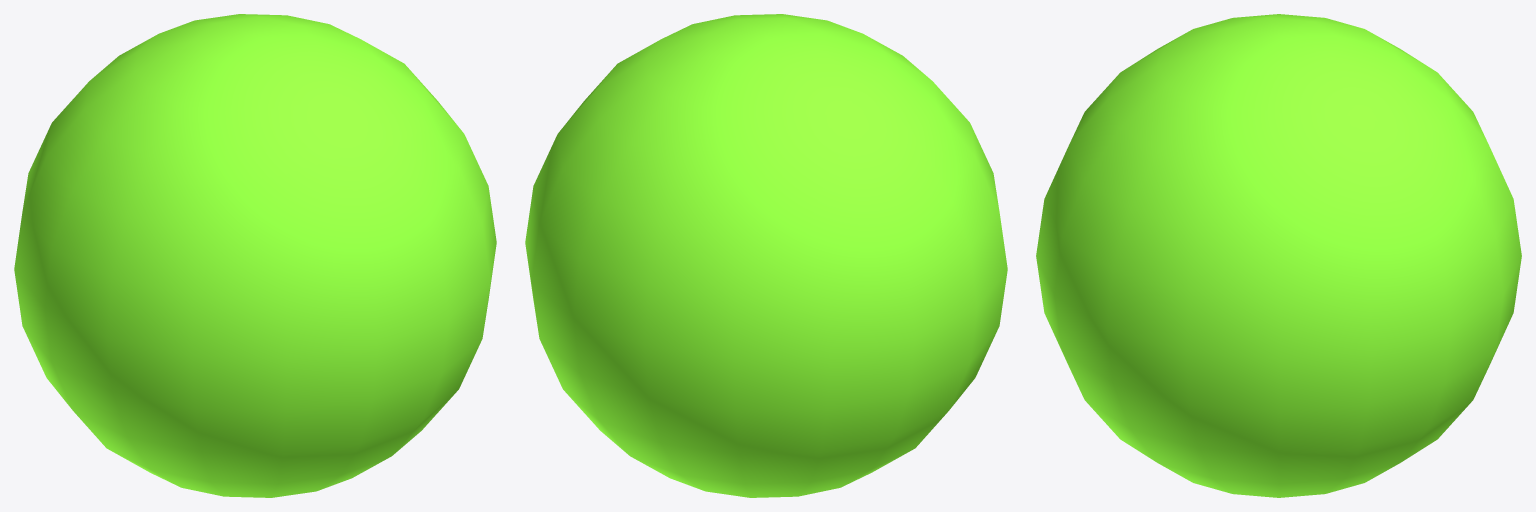
File: Candy_03.glb
3 views of the same model, side by side, from view 1: azimuth 30°, elevation 25°; view 2: azimuth 150°, elevation 25°; view 3: azimuth 270°, elevation 25° (orthographic).
Parts seen in each view (by area): view 1: Candy_03; view 2: Candy_03; view 3: Candy_03.
Boxes of the visible parts, x1,y1,x2,y2 form: Candy_03: (14,14,496,497); Candy_03: (525,14,1007,497); Candy_03: (1036,14,1521,497).
Size of the model in its own units: 1.22 by 1.22 by 1.22.
1 material, 1 textured.
